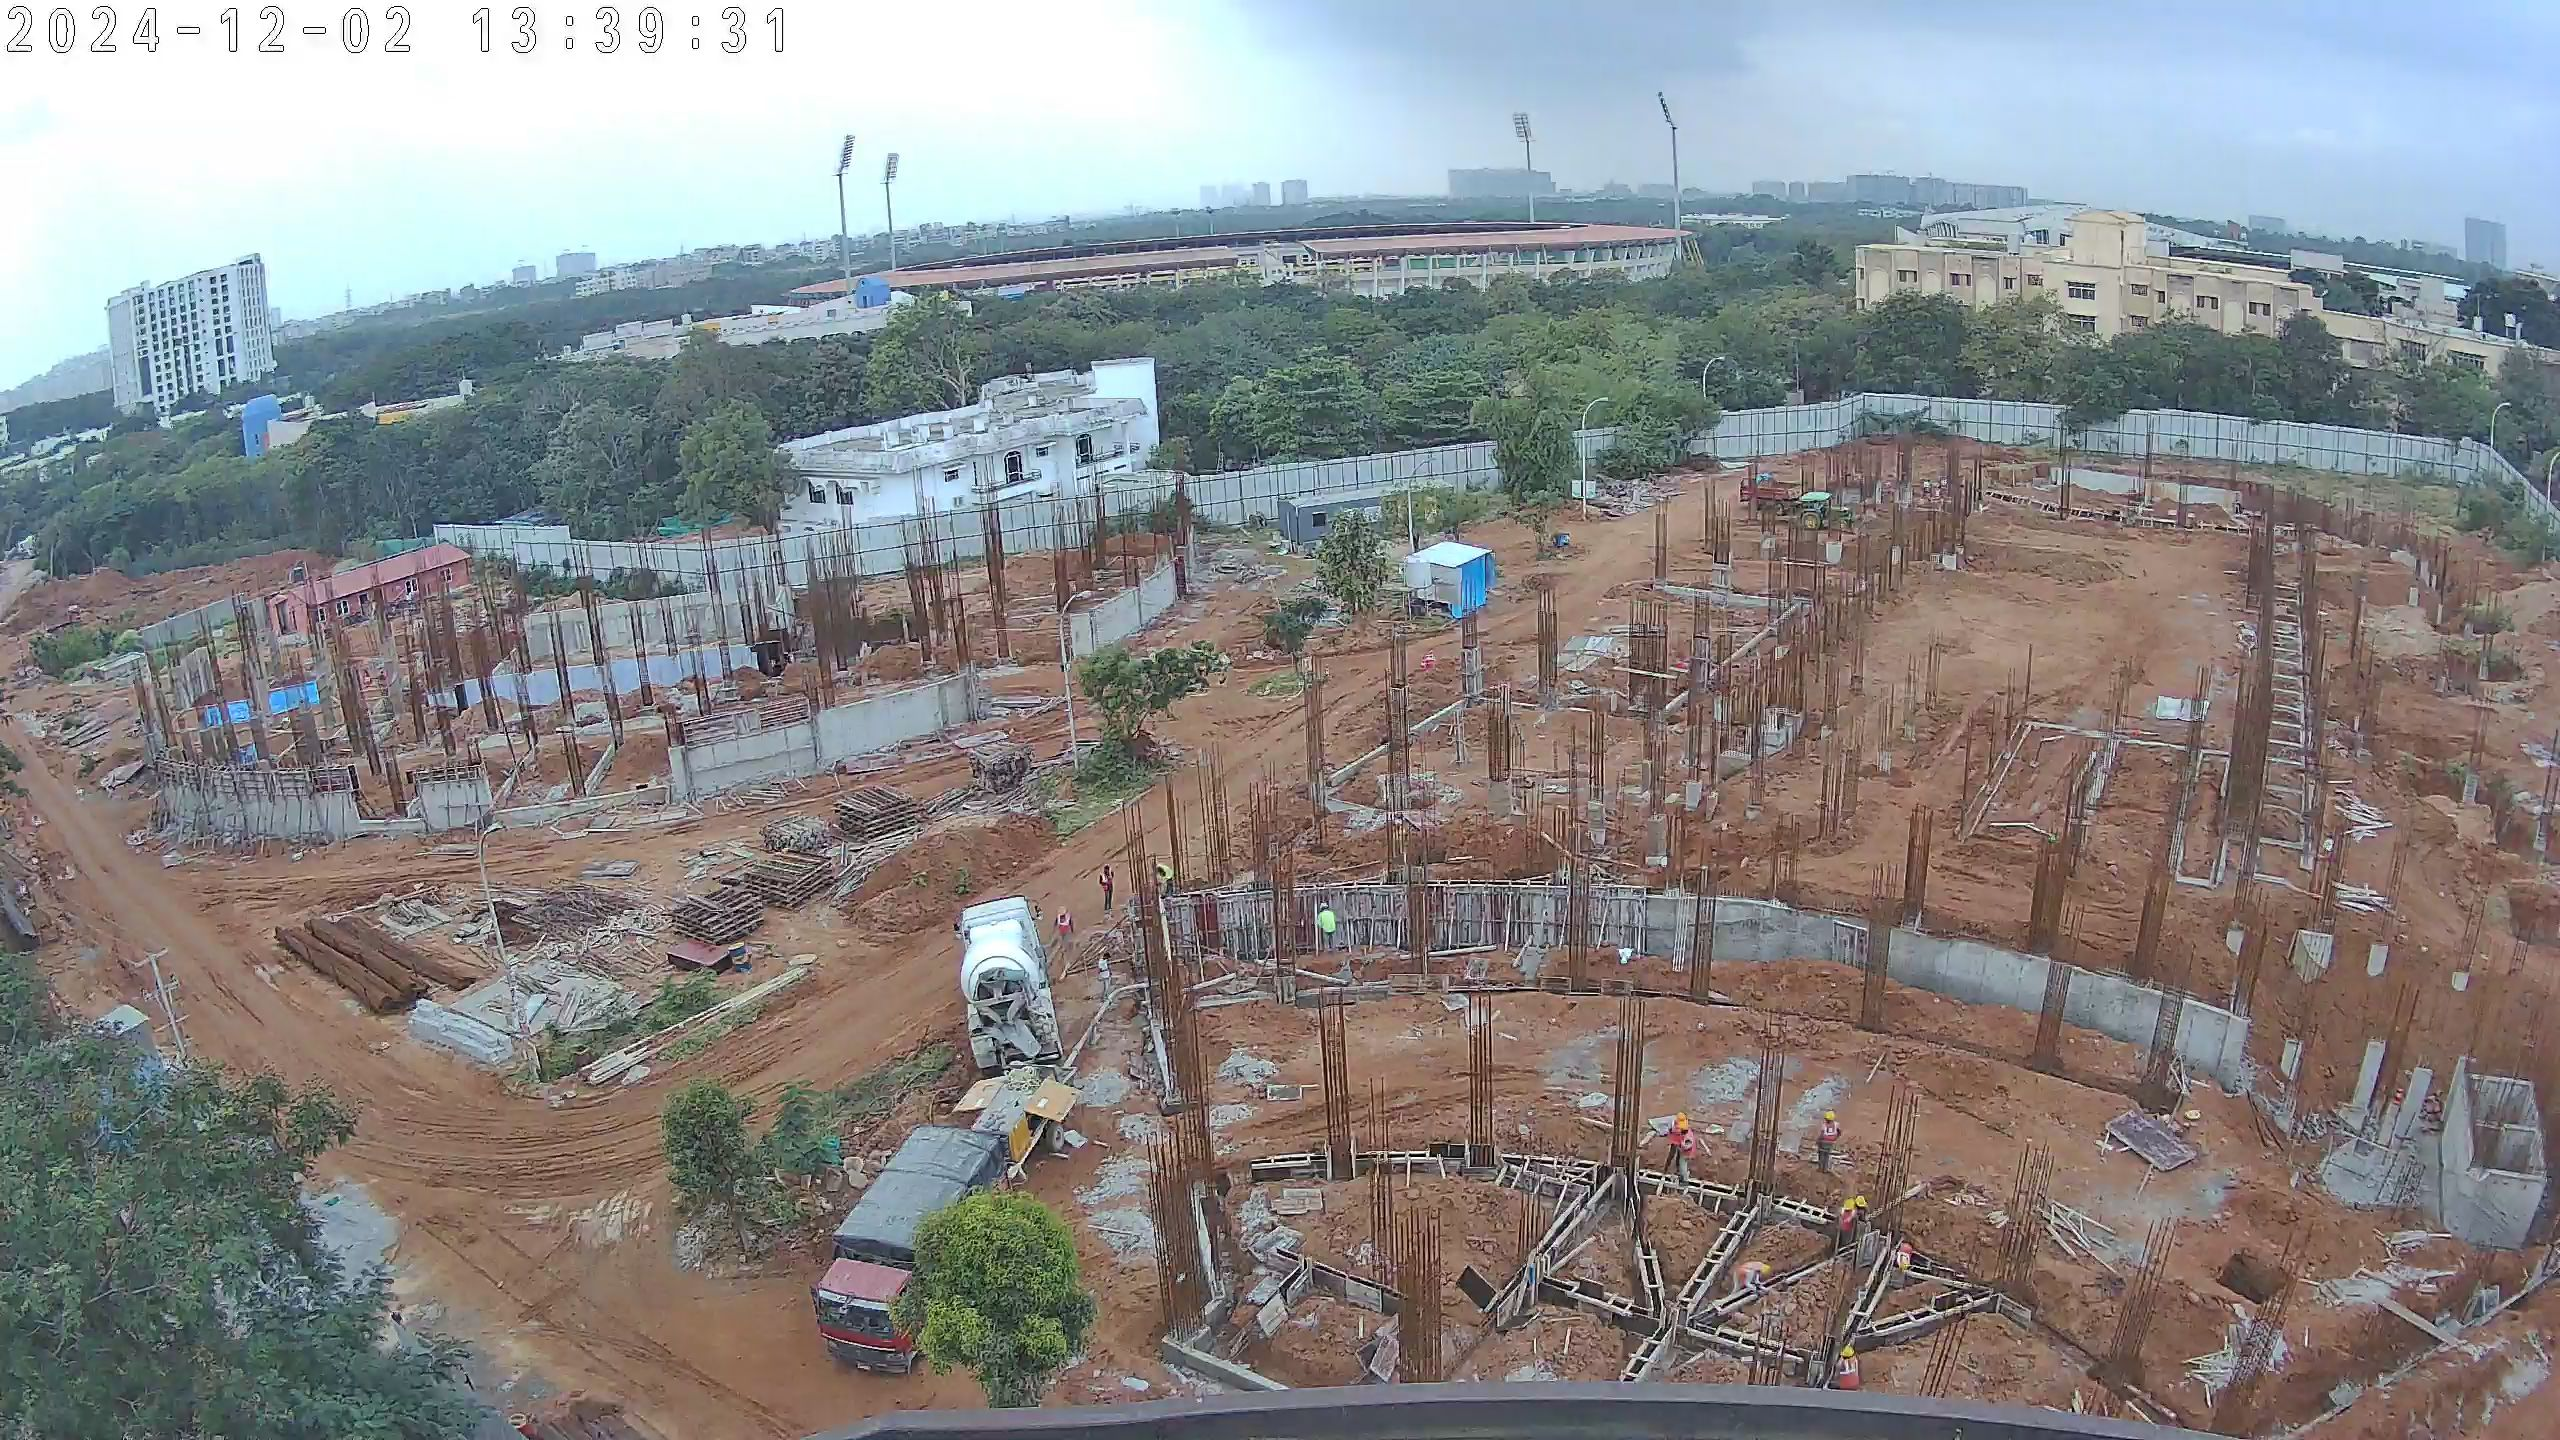bulldozer: (1789, 489, 1863, 539)
truck: (808, 1122, 1014, 1375), (956, 895, 1068, 1074), (1741, 474, 1808, 512)
worker: (1725, 1256, 1779, 1304), (1662, 1112, 1691, 1191), (1093, 943, 1120, 1009), (1812, 1114, 1841, 1172), (1312, 899, 1339, 960), (1827, 1341, 1858, 1391), (1097, 868, 1122, 918), (1052, 908, 1075, 960), (1841, 1197, 1860, 1258)
